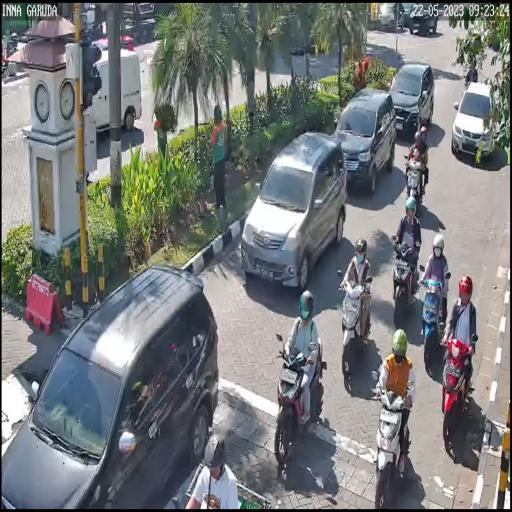mobil: (0, 256, 214, 512), (239, 128, 348, 298), (339, 83, 394, 189), (391, 58, 433, 146), (451, 77, 493, 163)
motor: (270, 330, 326, 466), (367, 372, 418, 507), (438, 323, 478, 449), (416, 254, 452, 376), (335, 263, 373, 377), (388, 224, 421, 326), (400, 148, 431, 206)
